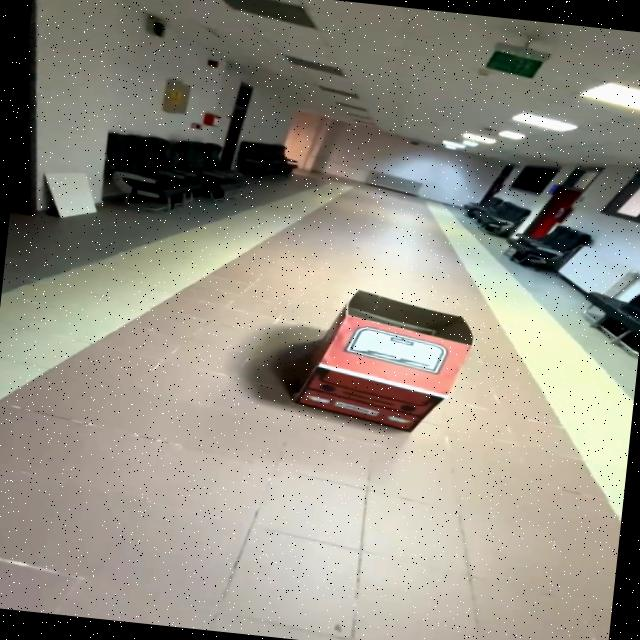red_car: (226, 271, 496, 442)
